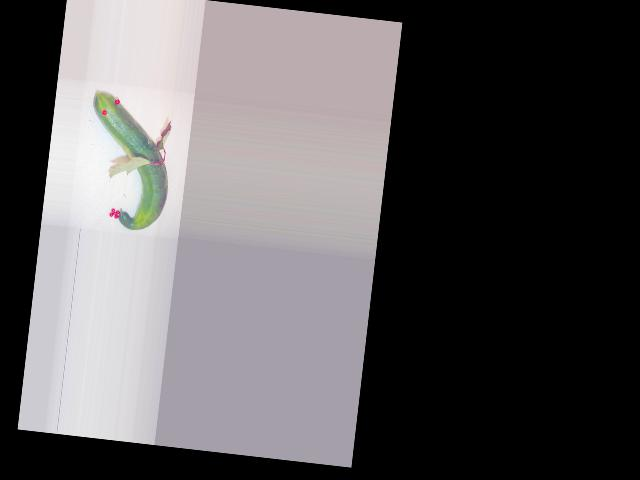cucumber: (79, 91, 177, 233)
